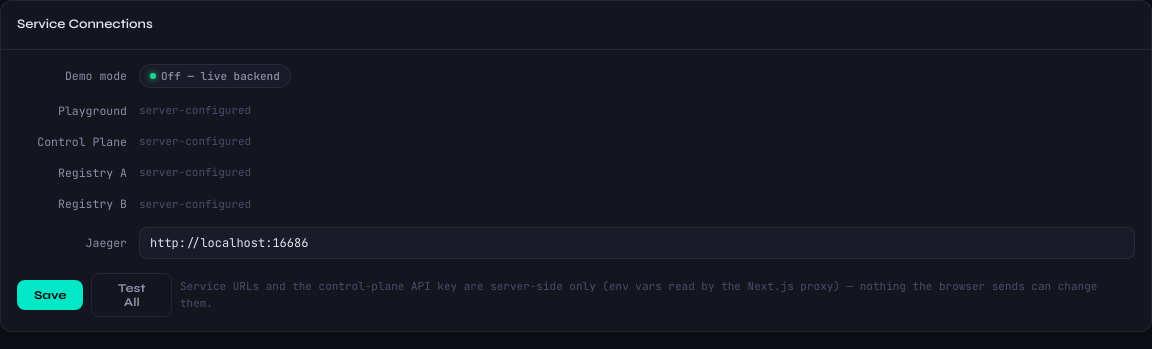
Test case: ConnectionPanel — Test All renders the failure kind, not just a dot › says healthy for an ok result, and checking… while pending — never unreachable for either
Step 1. Click the button "Test All" → (132, 294), box [91,272,172,316]
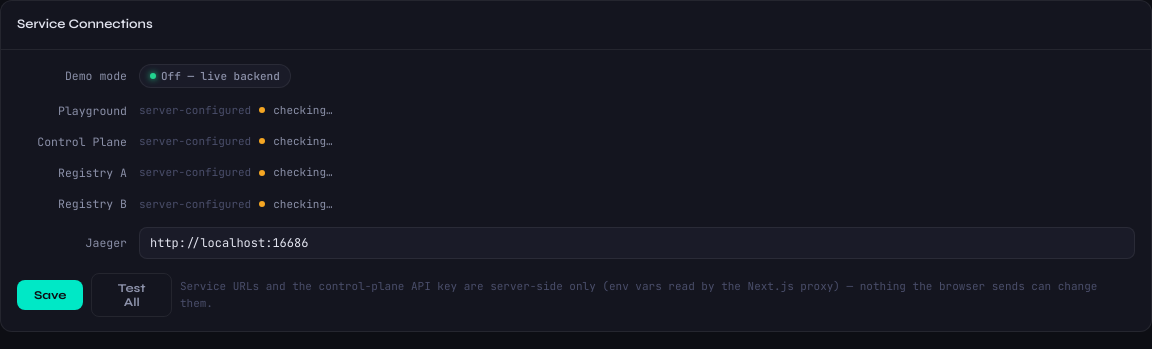
Now the text "checking…" in the row of "Playground" is shown, box [273,103,333,117]
